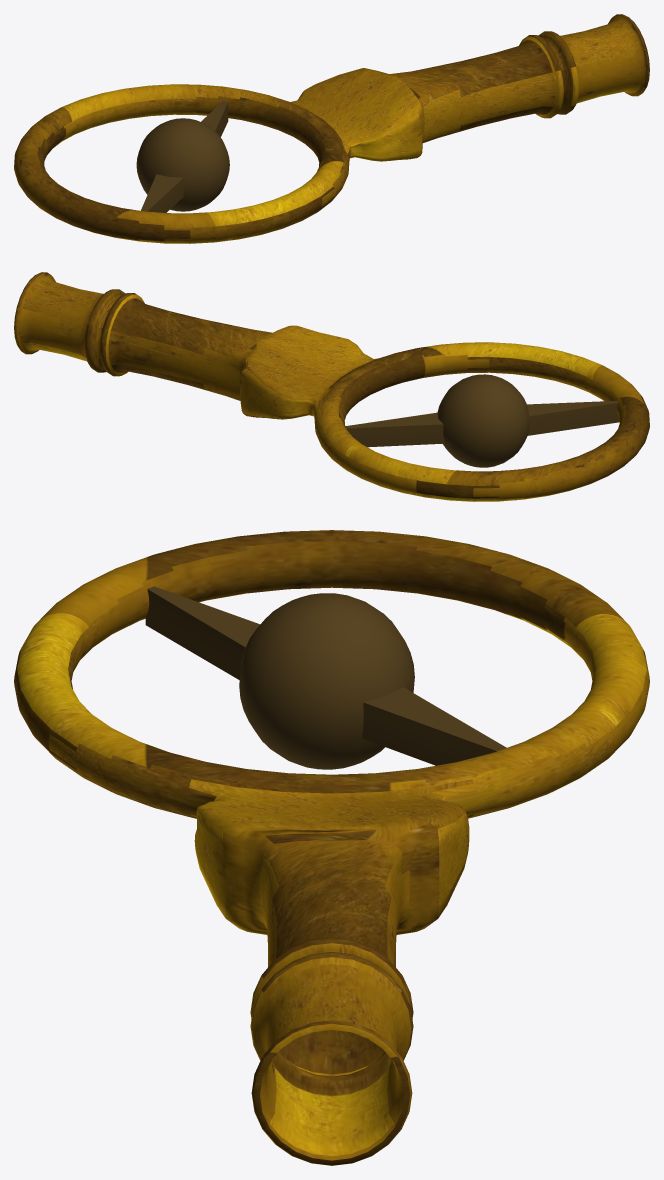
Rendered from Cuttof_GrandfatherClockKey.fbx.
The picture shows the model from 3 angles, top to bottom: view 1: azimuth 30°, elevation 25°; view 2: azimuth 150°, elevation 25°; view 3: azimuth 270°, elevation 25°; orthographic projection. The views are drawn at different scales.
Visible parts, largest first — view 1: clock_key1; view 2: clock_key1; view 3: clock_key1.
Part boxes in pixels (x1,y1,x2,y2): clock_key1: [14, 14, 649, 243]; clock_key1: [14, 272, 649, 501]; clock_key1: [14, 530, 649, 1165].
Bounding box in the file's own units: 14.68 × 2 × 7.19.
Materials: 2 (1 with a texture image).
